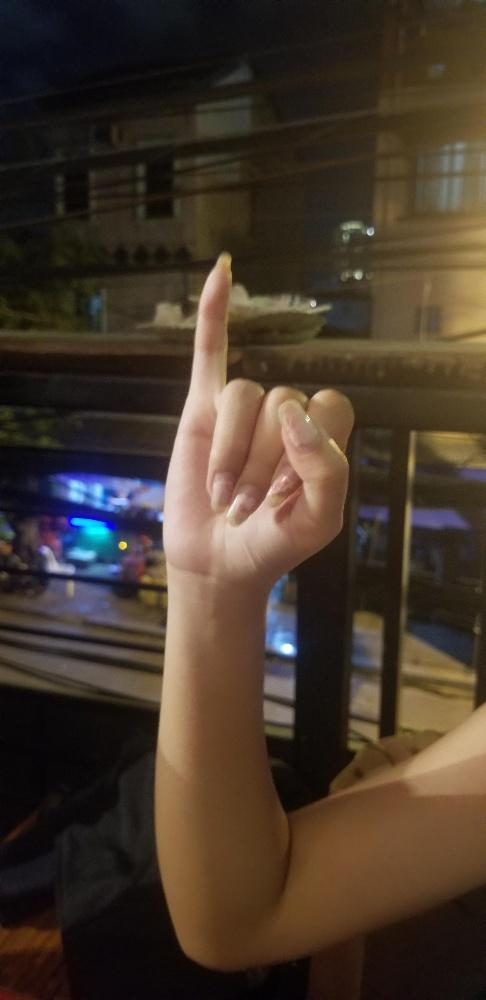i: (160, 250, 357, 582)
